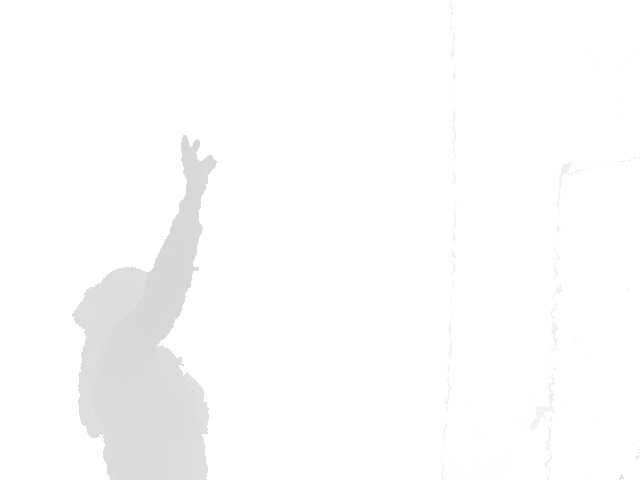hand: (179, 132, 218, 194)
head: (71, 265, 166, 329)
person: (71, 133, 219, 480)
